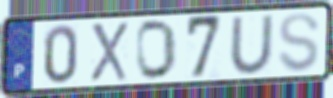0: (42, 22, 81, 87)
7: (185, 14, 224, 82)
O: (134, 17, 179, 82)
S: (276, 11, 321, 75)
U: (228, 12, 275, 76)
X: (89, 20, 130, 84)
